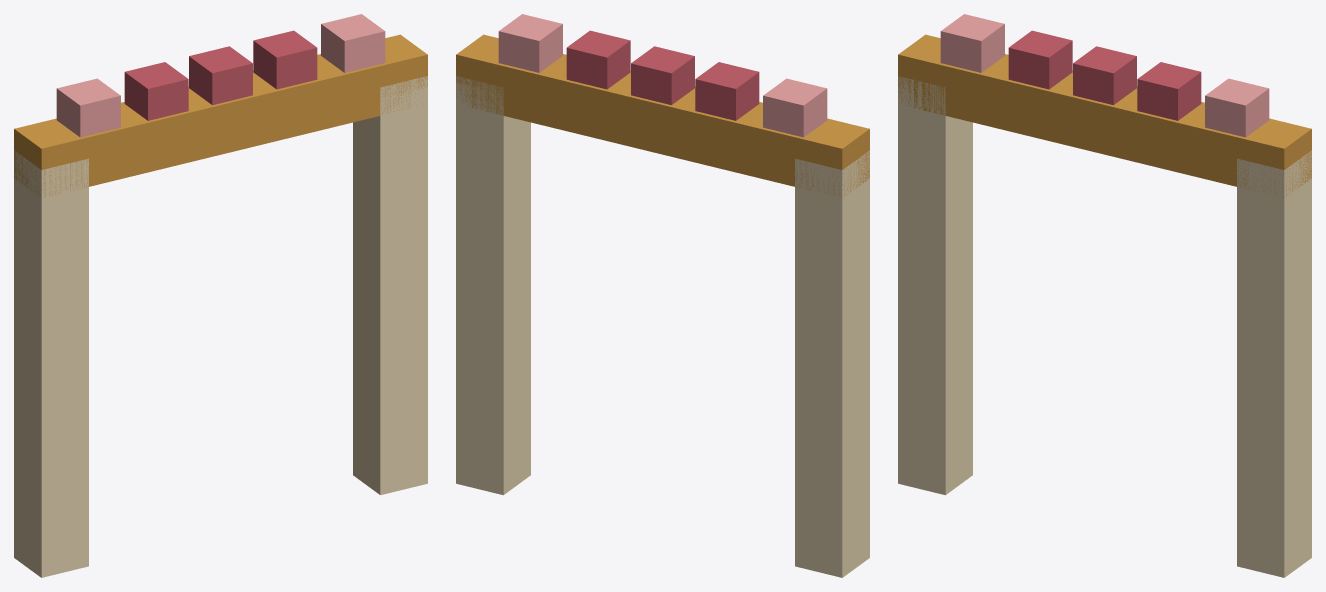
Rendered from wedding_arch.obj.
3 views of the same model, side by side, from view 1: azimuth 30°, elevation 25°; view 2: azimuth 150°, elevation 25°; view 3: azimuth 330°, elevation 25° (orthographic).
Parts seen in each view (by area): view 1: wedding_arch; view 2: wedding_arch; view 3: wedding_arch.
Boxes of the visible parts, x1,y1,x2,y2 form: wedding_arch: [14, 14, 427, 577]; wedding_arch: [456, 14, 869, 577]; wedding_arch: [898, 14, 1311, 577].
Size of the model in its own units: 2.28 by 2.6 by 0.28.
